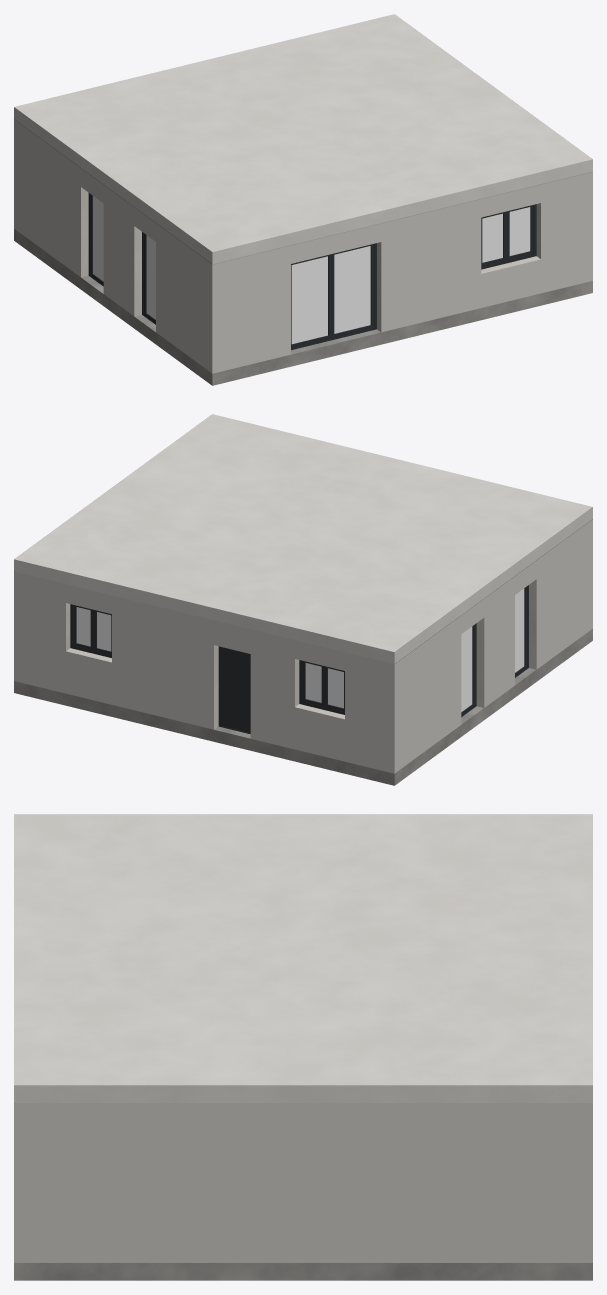
Rendered from room_textured-2.glb.
3 renders of one model, top to bottom at view 1: azimuth 30°, elevation 25°; view 2: azimuth 150°, elevation 25°; view 3: azimuth 270°, elevation 25°, orthographic. The views are drawn at different scales.
Visible parts, largest first — view 1: Ceiling, Walls, Floor, hs_door_S_2, window_S_3, window_full_W_1, window_full_W_0; view 2: Ceiling, Walls, Floor, entrance_N_6, window_N_4, window_N_5, window_full_W_1, window_full_W_0; view 3: Ceiling, Walls, Floor.
Boxes of the visible parts, bbox=[...] form: Ceiling: bbox=[14, 14, 592, 264]; Walls: bbox=[14, 119, 592, 373]; Floor: bbox=[14, 229, 592, 385]; hs_door_S_2: bbox=[291, 243, 376, 350]; window_S_3: bbox=[481, 204, 536, 269]; window_full_W_1: bbox=[88, 193, 103, 286]; window_full_W_0: bbox=[142, 232, 155, 324]; Ceiling: bbox=[14, 414, 592, 664]; Walls: bbox=[14, 519, 592, 773]; Floor: bbox=[14, 629, 592, 785]; entrance_N_6: bbox=[218, 646, 250, 734]; window_N_4: bbox=[299, 660, 344, 714]; window_N_5: bbox=[70, 604, 111, 657]; window_full_W_1: bbox=[461, 623, 476, 716]; window_full_W_0: bbox=[515, 585, 528, 677]; Ceiling: bbox=[14, 814, 592, 1102]; Walls: bbox=[14, 1103, 592, 1262]; Floor: bbox=[14, 1263, 592, 1280].
Bounding box in the file's own units: 9.89 × 3.32 × 8.93.
9 materials, 5 textured.
